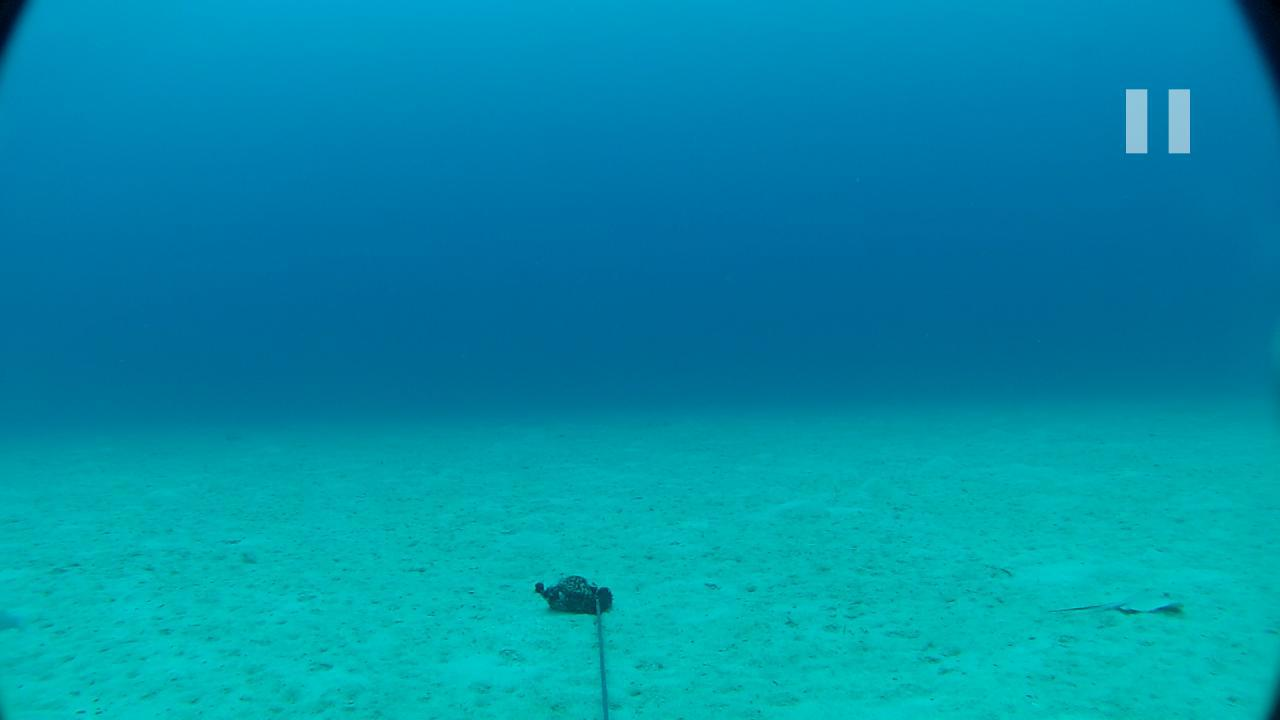dasyatis: (1040, 586, 1184, 616)
